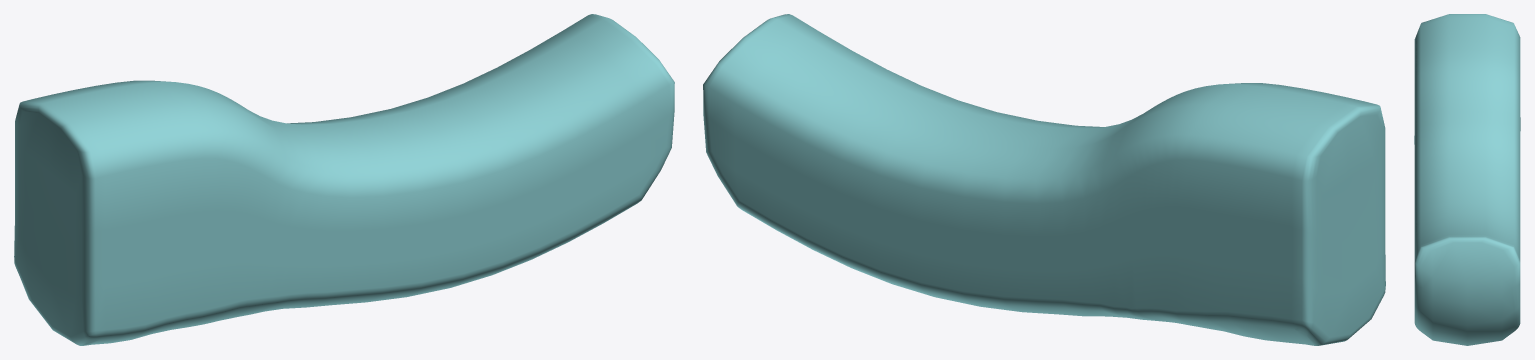
Rendered from sm_Glissade01.fbx.
3 views of the same model, side by side, from view 1: azimuth 30°, elevation 25°; view 2: azimuth 150°, elevation 25°; view 3: azimuth 270°, elevation 25° (orthographic). The views are drawn at different scales.
Visible parts, largest first — view 1: Line005; view 2: Line005; view 3: Line005.
Boxes of the visible parts, x1,y1,x2,y2 form: Line005: (14,14,674,345); Line005: (703,14,1385,345); Line005: (1414,14,1520,345).
Bounding box in the file's own units: 1907 × 771 × 430.
